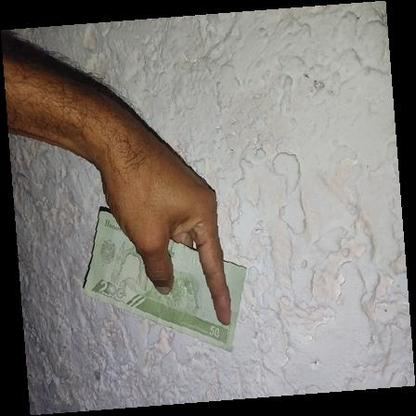fifty-back-vef: (80, 207, 248, 352)
